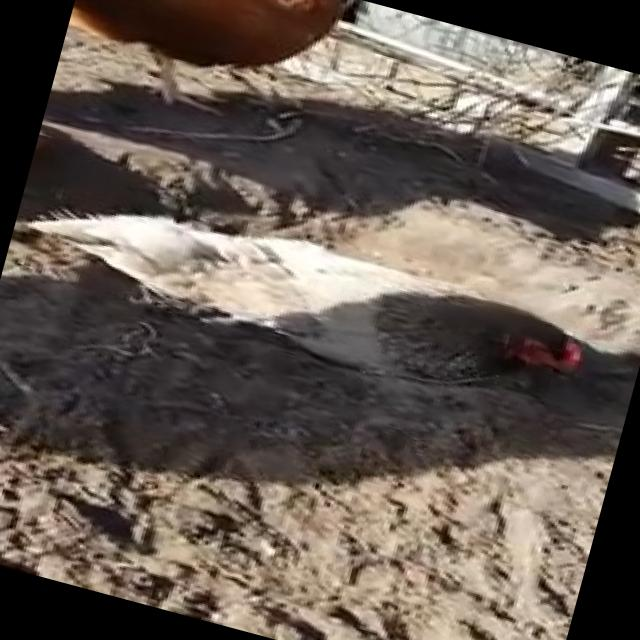stand bath: (9, 161, 604, 430)
